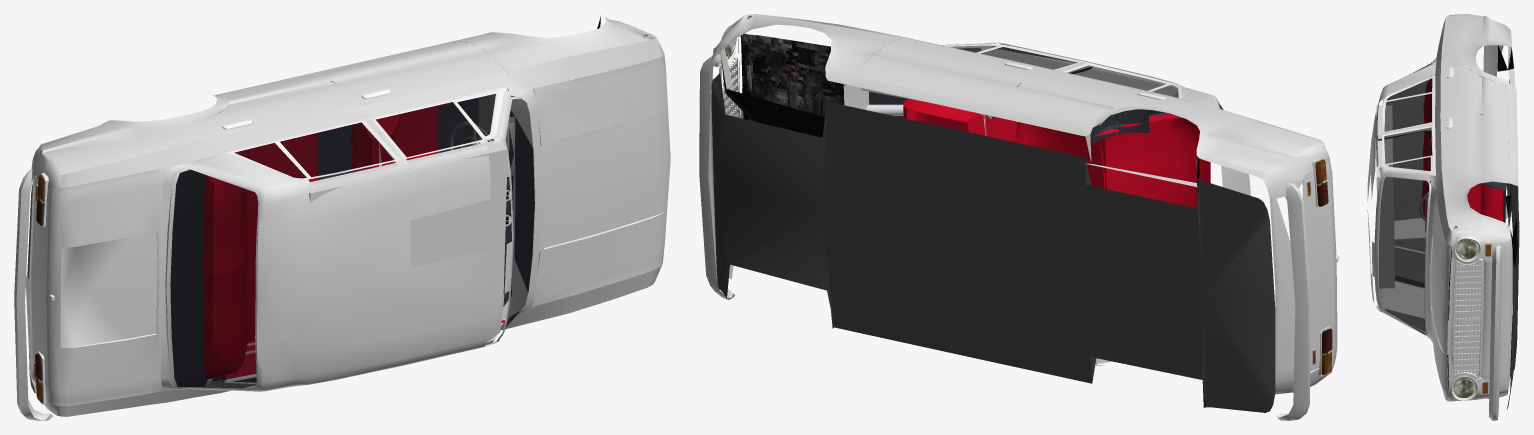
File: chassis.glb
3 renders of one model, left to right at view 1: azimuth 30°, elevation 25°; view 2: azimuth 150°, elevation 25°; view 3: azimuth 270°, elevation 25°, orthographic. The views are drawn at different scales.
Visible parts, largest first — view 1: shadeBlue, 3DGeom-29, shadeBlue.007, shadeBlue.004, shadeBlack.003, shadeBlue.006, shadeBlue.005, 3DGeom-27, shadeBlue.001, shadeBlack.002, shadeBlack.004, shadeBlack.005 (+4 smaller); view 2: 3DGeom-32, shadeBlue, 3DGeom-29, shadeBlue.006, 3DGeom-28, shadeBlue.005, 3DGeom-36, 3DGeom-27, 3DGeom-37, shadeBlue.001, shadeBlack.002, shadeBlack.005 (+2 smaller); view 3: shadeBlue, shadeBlack.004, 3DGeom-27, 3DGeom-29, shadeBlue.006, shadeBlack.003, shadeBlue.005, shadeBlue.007, shadeBlue.001, 3DGeom-37, shadeBlack.002, shadeBlack.005 (+8 smaller).
Boxes of the visible parts, box(x1,y1,x2,y2) form: shadeBlue: box(25, 15, 664, 416); 3DGeom-29: box(34, 16, 661, 402); shadeBlue.007: box(531, 55, 670, 306); shadeBlue.004: box(46, 167, 168, 405); shadeBlack.003: box(170, 169, 258, 388); shadeBlue.006: box(316, 41, 507, 118); shadeBlue.005: box(208, 73, 404, 159); 3DGeom-27: box(34, 19, 649, 404); shadeBlue.001: box(309, 141, 507, 295); shadeBlack.002: box(235, 122, 394, 178); shadeBlack.004: box(505, 98, 534, 327); shadeBlack.005: box(376, 94, 495, 157); 3DGeom-32: box(711, 73, 1275, 412); shadeBlue: box(710, 14, 1335, 394); 3DGeom-29: box(713, 15, 1332, 374); shadeBlue.006: box(863, 37, 1043, 104); 3DGeom-28: box(740, 33, 844, 125); shadeBlue.005: box(999, 62, 1177, 122); 3DGeom-36: box(1276, 183, 1310, 420); 3DGeom-27: box(713, 16, 1333, 376); 3DGeom-37: box(699, 54, 735, 300); shadeBlue.001: box(982, 47, 1178, 97); shadeBlack.002: box(1068, 65, 1178, 97); shadeBlack.005: box(949, 45, 1076, 69); shadeBlue: box(1367, 14, 1518, 401); shadeBlack.004: box(1379, 176, 1428, 334); 3DGeom-27: box(1376, 46, 1515, 398); 3DGeom-29: box(1375, 45, 1517, 400); shadeBlue.006: box(1435, 113, 1508, 175); shadeBlack.003: box(1382, 63, 1430, 220); shadeBlue.005: box(1382, 64, 1507, 134); shadeBlue.007: box(1429, 192, 1451, 391); shadeBlue.001: box(1376, 105, 1394, 288); 3DGeom-37: box(1488, 245, 1501, 420); shadeBlack.002: box(1384, 78, 1432, 131); shadeBlack.005: box(1384, 127, 1432, 170).
Bounding box in the file's own units: 2.37 × 1.05 × 0.6968.
8 materials, 2 textured.
